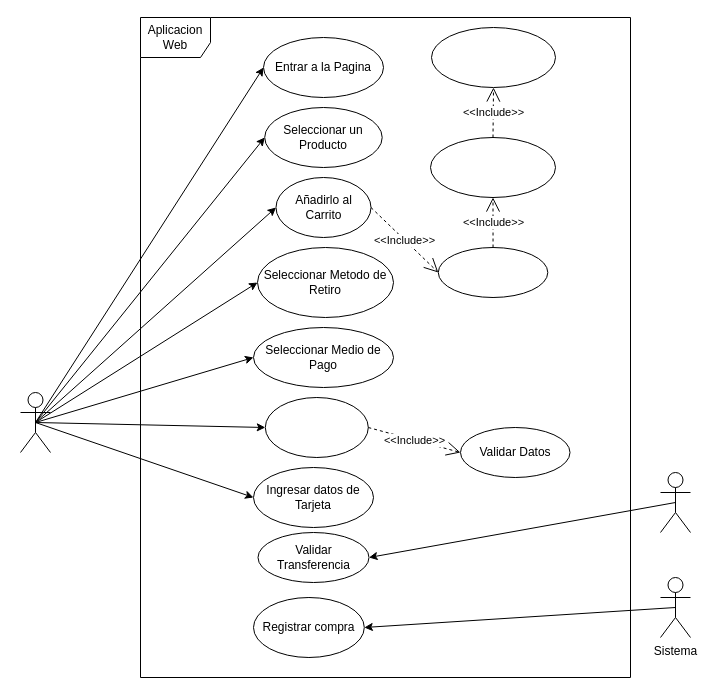
Image size: 721x695. Some labels were removed from this diagram. Here are the shapes that lost their labels. From the top down, the centre of each, then its label:
At pixel 493 57: "Registrarse en el Sistema".
At pixel 493 167: "Activar su Cuenta".
At pixel 492 272: "Iniciar Sesion".
At pixel 35 422: "Cliente".
At pixel 316 427: "Enviar datos de Pago".
At pixel 675 502: "Transbank".
